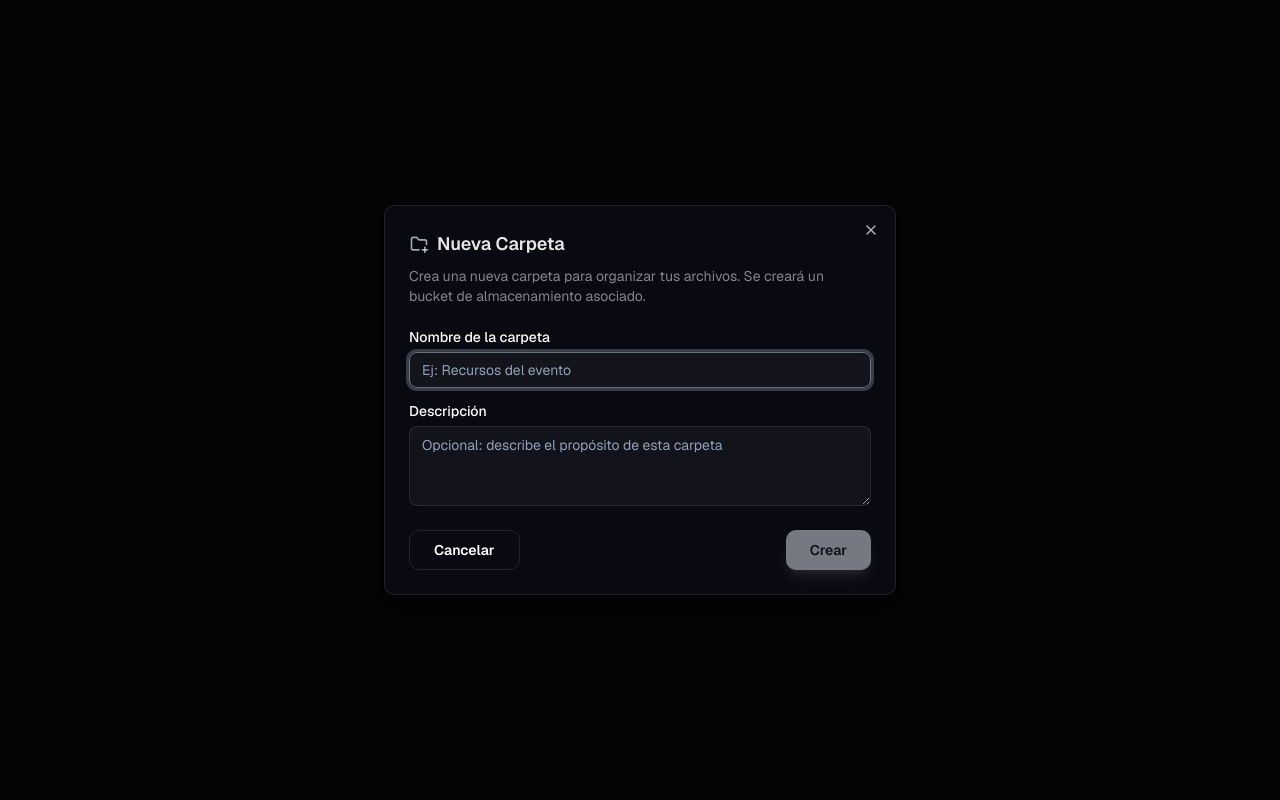
Test: CreateFolderDialog › disables submit button while creating
In the field labelled "Nombre de la carpeta": (640, 370) [409,352,871,388], type "Test"
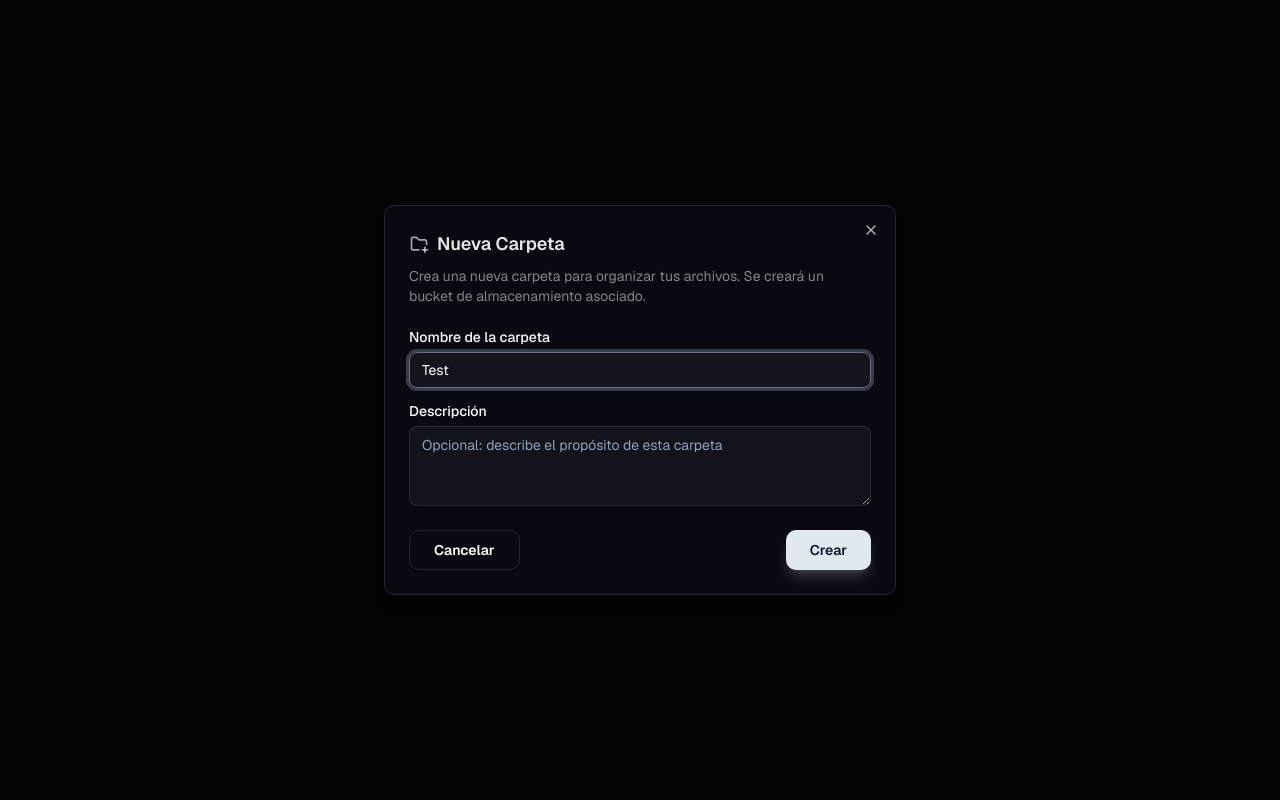
Click the button "Crear": (828, 550) [786,530,871,570]
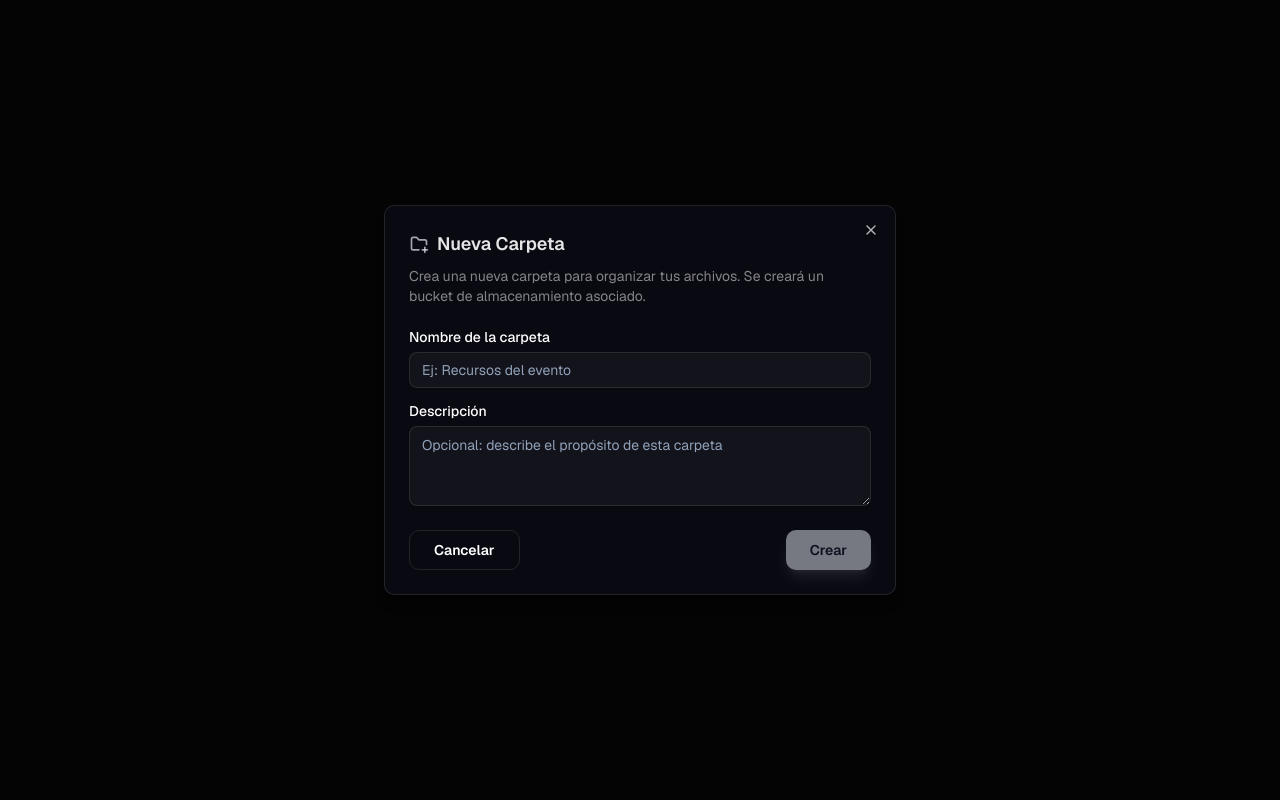
Result: the button "Crear" is disabled at [786,530,871,570]
